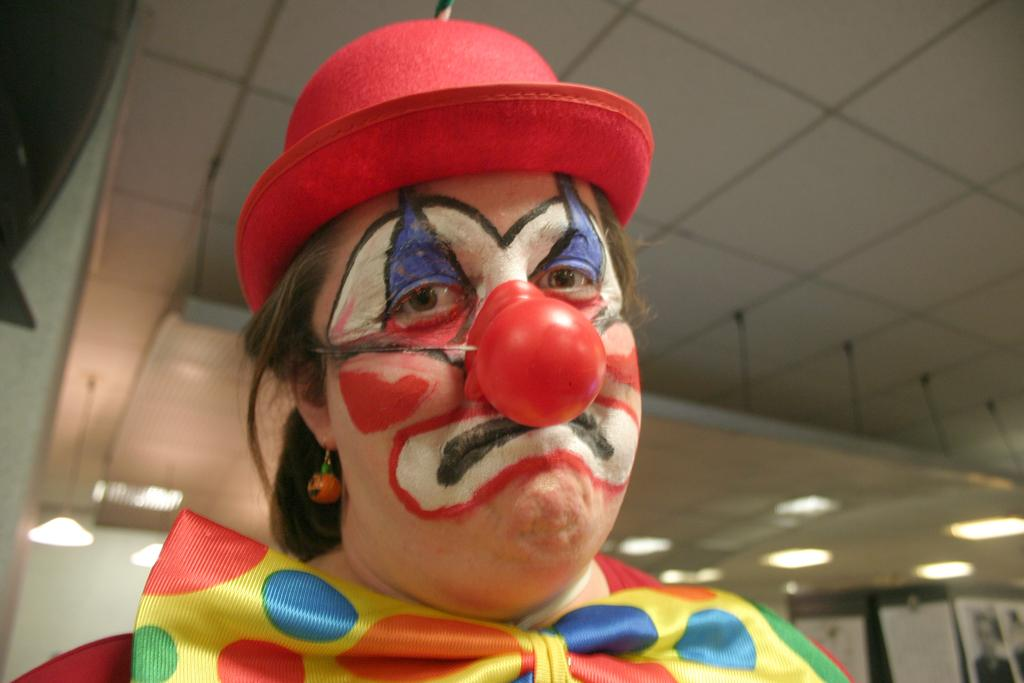Hat: (234, 11, 652, 312)
